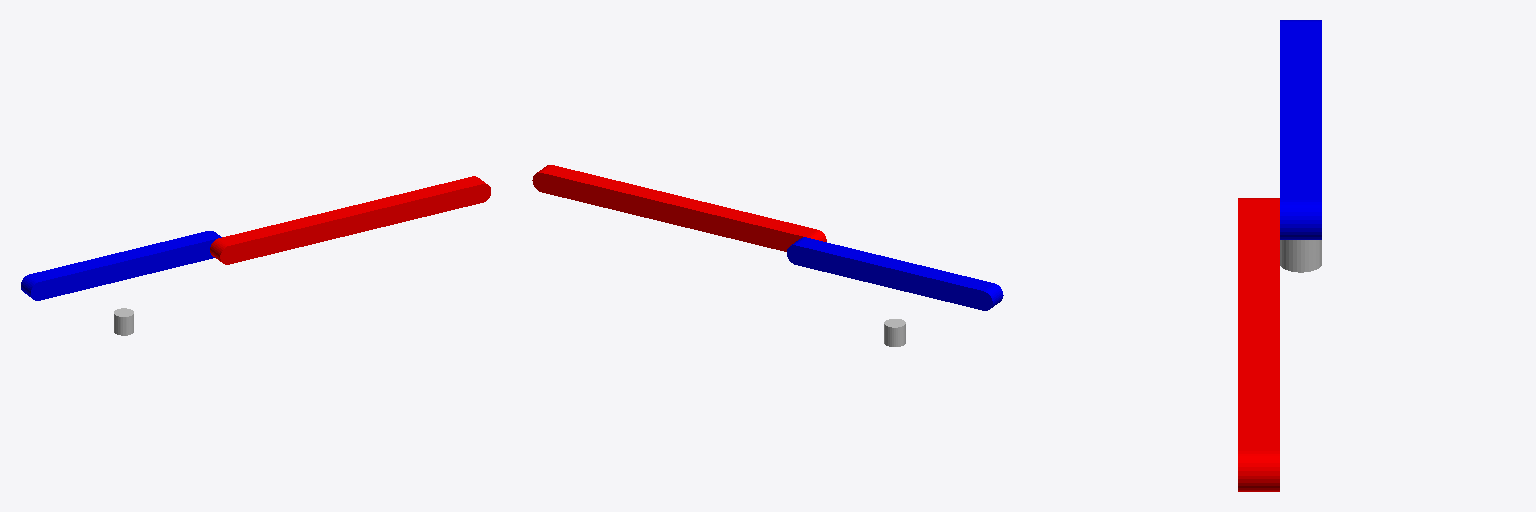
The robot description file, URDF, robot "two_link_robot":
<?xml version="1.0"?>
<robot name="two_link_robot">

  <!-- Base -->
  <link name="base_link"/>

  <!-- Link1 -->
  <link name="link1">
    <visual>
      <!-- box centering -->
      <origin xyz="0.0 0 0" rpy="0 0 0"/>
      <geometry>
        <box size="0.05 0.005 0.005"/>
      </geometry>
      <material name="blue">
        <color rgba="0 0 1 1"/>
      </material>
    </visual>
    <visual>
      <origin xyz="0.025 0 0" rpy="1.5708 0 0"/>
      <geometry>
        <cylinder radius="0.0025" length="0.005"/>
      </geometry>
      <material name="blue">
        <color rgba="0 0 1 1"/>
      </material>
    </visual>
    <visual>
      <origin xyz="-0.025 0 0" rpy="1.5708 0 0"/>
      <geometry>
        <cylinder radius="0.0025" length="0.005"/>
      </geometry>
      <material name="blue">
        <color rgba="0 0 1 1"/>
      </material>
    </visual>

    <collision>
      <origin xyz="0.0 0 0" rpy="0 0 0"/>
      <geometry>
        <box size="0.05 0.005 0.005"/>
      </geometry>
    </collision>

    <inertial>
      <origin xyz="0.0 0 0" rpy="0 0 0"/>
      <mass value="0.01"/>

      <!-- inertia -->
      <inertia
        ixx="0.00000217"
        ixy="0"
        ixz="0"
        iyy="0.00002167"
        iyz="0"
        izz="0.00002167"/>
    </inertial>
  </link>

  <!-- Link2 -->
  <link name="link2">
    <visual>
      <origin xyz="0.03536 -0.005 0" rpy="0 0 0"/>
      <geometry>
        <box size="0.07071 0.005 0.005"/>
      </geometry>
      <material name="red">
        <color rgba="1 0 0 1"/>
      </material>
    </visual>
    <visual>
      <origin xyz="0 -0.005 0" rpy="1.5708 0 0"/>
      <geometry>
        <cylinder radius="0.0025" length="0.005"/>
      </geometry>
      <material name="red">
        <color rgba="1 0 0 1"/>
      </material>
    </visual>
    <visual>
      <origin xyz="0.07071 -0.005 0" rpy="1.5708 0 0"/>
      <geometry>
        <cylinder radius="0.0025" length="0.005"/>
      </geometry>
      <material name="red">
        <color rgba="1 0 0 1"/>
      </material>
    </visual>

    <collision>
      <origin xyz="0.03536 0.005 0" rpy="0 0 0"/>
      <geometry>
        <box size="0.07071 0.005 0.005"/>
      </geometry>
    </collision>

    <inertial>
      <origin xyz="0.03536 0.005 0" rpy="0 0 0"/>
      <mass value="0.01"/>

      <inertia
        ixx="0.00000217"
        ixy="0"
        ixz="0"
        iyy="0.00002167"
        iyz="0"
        izz="0.00002167"/>
    </inertial>
  </link>


  <!-- Tibia link -->
  <link name="tibia">
    <visual>
      <geometry>
        <cylinder radius="0.0025" length="0.005"/>
      </geometry>
      <material name="gray">
        <color rgba="0.8 0.8 0.8 0.8"/>
      </material>
    </visual>
  </link>


  <!-- Joint1 -->
  <joint name="joint1" type="revolute">
    <parent link="base_link"/>
    <child link="link1"/>

    <!-- link1 origin -->
    <origin xyz="0 0 0" rpy="0 0 0"/>

    <axis xyz="0 1 0"/>

    <limit
      lower="-3.14159"
      upper="3.14159"
      effort="10"
      velocity="10"/>
  </joint>

  <!-- Joint2 -->
  <joint name="joint2" type="revolute">
    <parent link="link1"/>
    <child link="link2"/>

    <!-- link1 tip -->
    <origin xyz="0.025 0 0" rpy="0 0 0"/>

    <axis xyz="0 1 0"/>

    <limit
      lower="-3.14159"
      upper="3.14159"
      effort="10"
      velocity="10"/>
  </joint>


  <!-- Joint3 -->
  <joint name="joint3" type="revolute">
    <parent link="base_link"/>
    <child link="tibia"/>

    <!-- link1 tip -->
    <origin xyz="0 0 -0.015" rpy="0 0 0"/>

    <axis xyz="0 0 1"/>

    <limit
      lower="-3.14159"
      upper="3.14159"
      effort="10"
      velocity="10"/>
  </joint>


</robot>

--- Render facts (derived) ---
The picture shows the robot from 3 angles, left to right: view 1: azimuth 30°, elevation 25°; view 2: azimuth 150°, elevation 25°; view 3: azimuth 270°, elevation 25°; orthographic projection.
Robot: two_link_robot — 4 links, 3 joints (3 revolute); root link base_link; default pose: every joint at zero.
Links seen in each view (by area): view 1: link2, link1; view 2: link2, link1, tibia; view 3: link2, link1, tibia.
Link boxes in pixels (x1=…): link2: x1=210, y1=176, x2=490, y2=264; link1: x1=21, y1=231, x2=221, y2=300; link2: x1=532, y1=165, x2=826, y2=251; link1: x1=787, y1=237, x2=1003, y2=310; tibia: x1=884, y1=319, x2=905, y2=346; link2: x1=1238, y1=198, x2=1279, y2=491; link1: x1=1280, y1=20, x2=1321, y2=239; tibia: x1=1280, y1=240, x2=1321, y2=272.
Size in the robot's own frame: 0.1257 by 0.01 by 0.02 metres.
Geometry: primitives only (box / cylinder / sphere), no mesh files.
